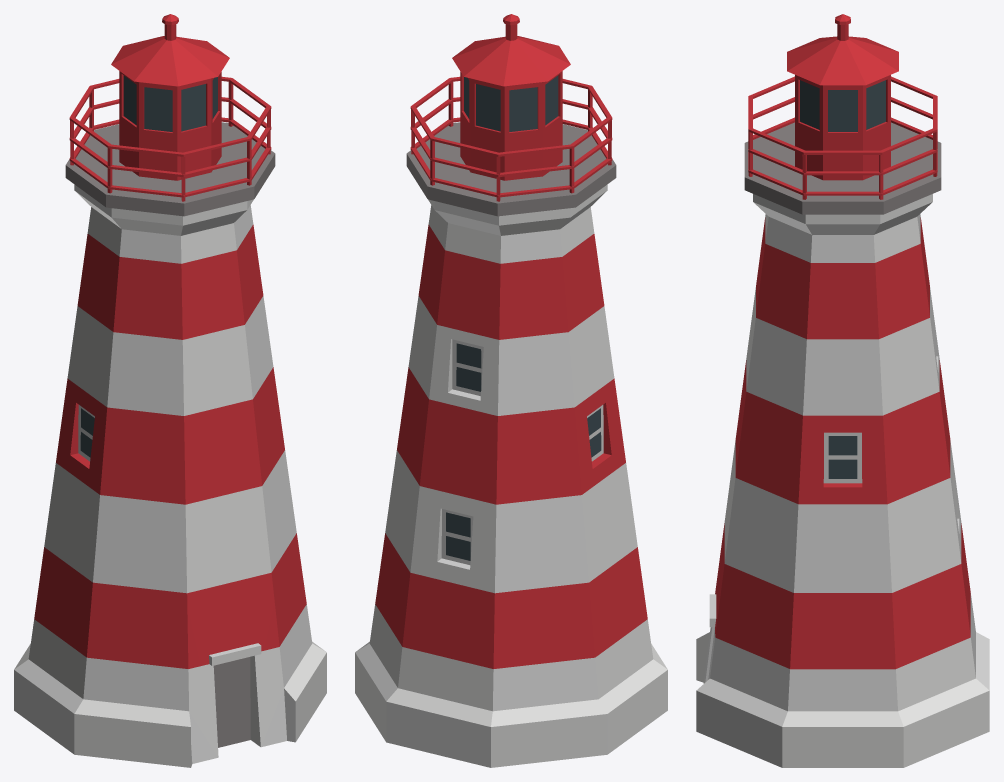
File: buildings_lighthouse.fbx
3 views of the same model, side by side, from view 1: azimuth 30°, elevation 25°; view 2: azimuth 150°, elevation 25°; view 3: azimuth 270°, elevation 25° (orthographic).
Visible parts, largest first — view 1: buildings_lighthouse; view 2: buildings_lighthouse; view 3: buildings_lighthouse.
Part boxes in pixels (<box>): buildings_lighthouse: <box>14,14,326,767</box>; buildings_lighthouse: <box>355,14,667,767</box>; buildings_lighthouse: <box>696,14,989,767</box>.
Size of the model in its own units: 76.85 by 200 by 76.85.
